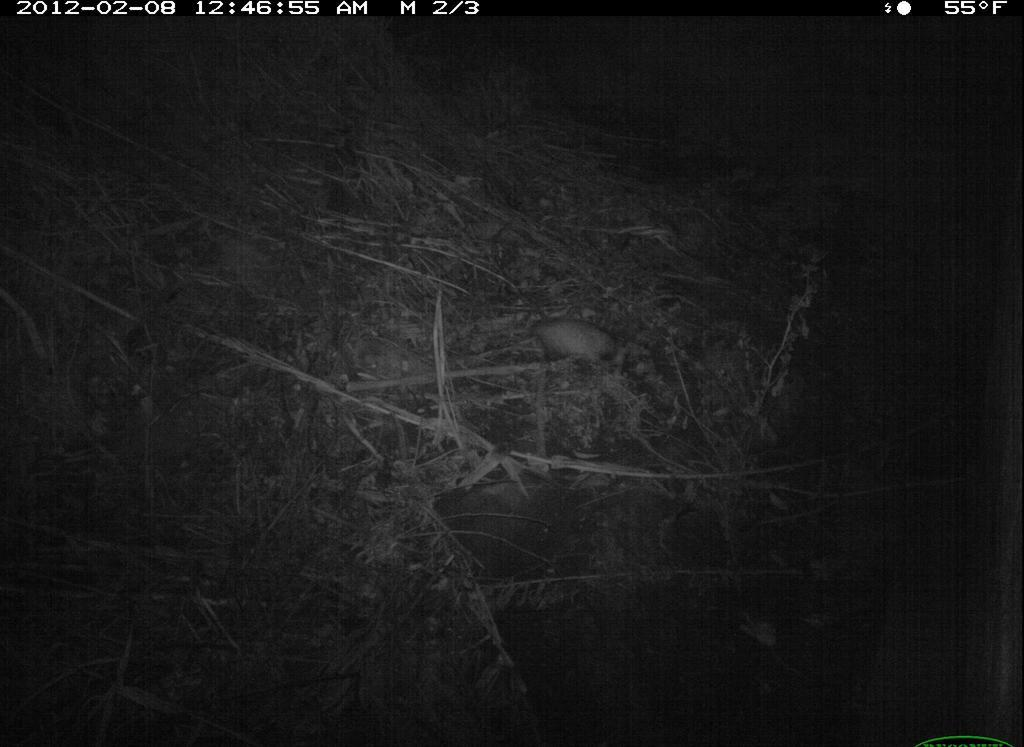opossum: (485, 317, 631, 376)
